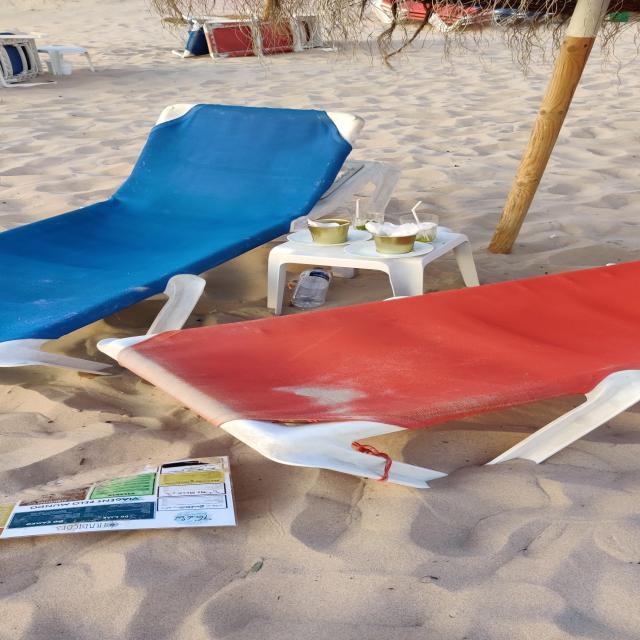litter: (287, 272, 333, 308)
